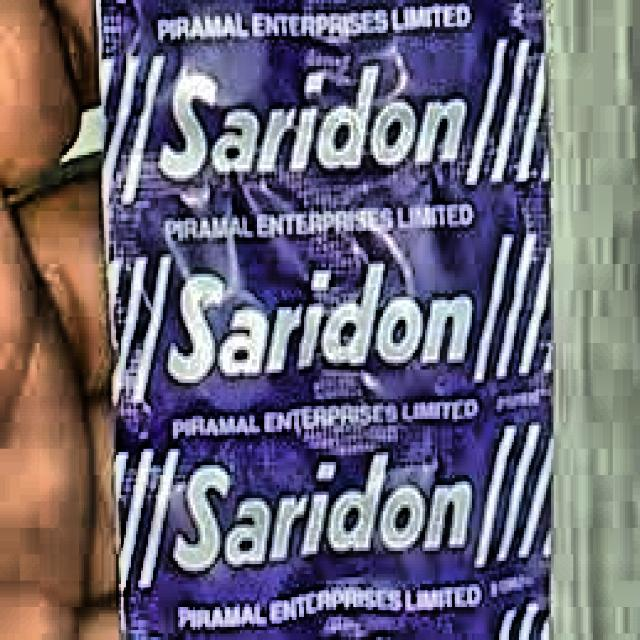Saridon: (101, 0, 550, 633)
